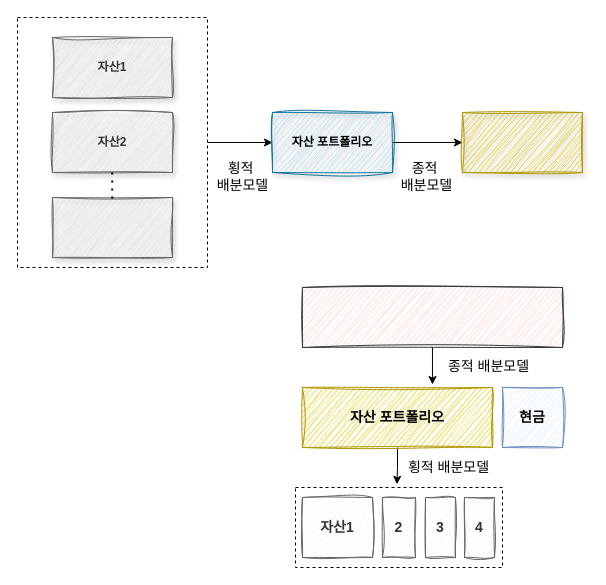
The diagram is 606 pixels wide and 585 high, and some of its shapes have lost their labels. The centre of each missing label's shape, as x and y in pixels:
자산 N: pixel 113 228
전체 가용자본: pixel 432 317
최종 포트폴리오: pixel 523 144
